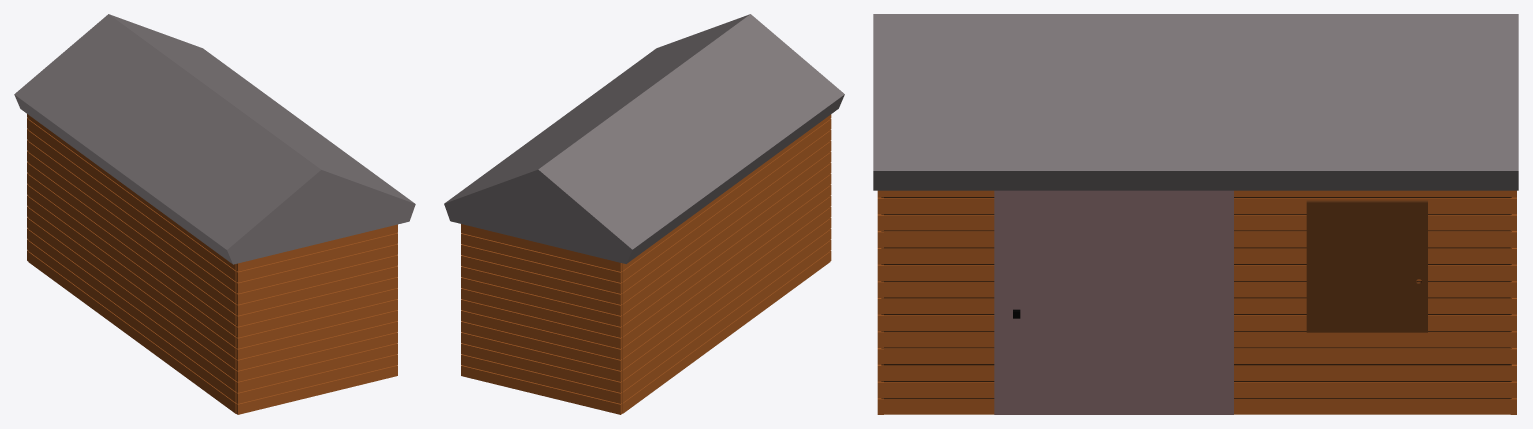
File: GranjaExterior4.fbx
3 renders of one model, left to right at view 1: azimuth 30°, elevation 25°; view 2: azimuth 150°, elevation 25°; view 3: azimuth 270°, elevation 25°, orthographic. The views are drawn at different scales.
Visible parts, largest first — view 1: Cylinder, Cube.005, Cube.007; view 2: Cylinder, Cube.005, Cube.008; view 3: Cylinder, Cube.006, Cube.016, Cube.019, Cube, Cube.008, Cube.007.
Part boxes in pixels (left/top/right/bottom): Cylinder: left=14, top=14, right=415, bottom=264; Cube.005: left=28, top=115, right=236, bottom=413; Cube.007: left=236, top=224, right=397, bottom=414; Cylinder: left=444, top=14, right=844, bottom=263; Cube.005: left=622, top=115, right=830, bottom=413; Cube.008: left=461, top=224, right=622, bottom=414; Cylinder: left=873, top=14, right=1518, bottom=190; Cube.006: left=882, top=190, right=1510, bottom=414; Cube.016: left=994, top=190, right=1233, bottom=414; Cube.019: left=1306, top=200, right=1427, bottom=332; Cube: left=881, top=197, right=1511, bottom=398; Cube.008: left=1510, top=190, right=1516, bottom=414; Cube.007: left=877, top=190, right=883, bottom=414.
Bounding box in the file's own units: 238 × 273 × 465.
